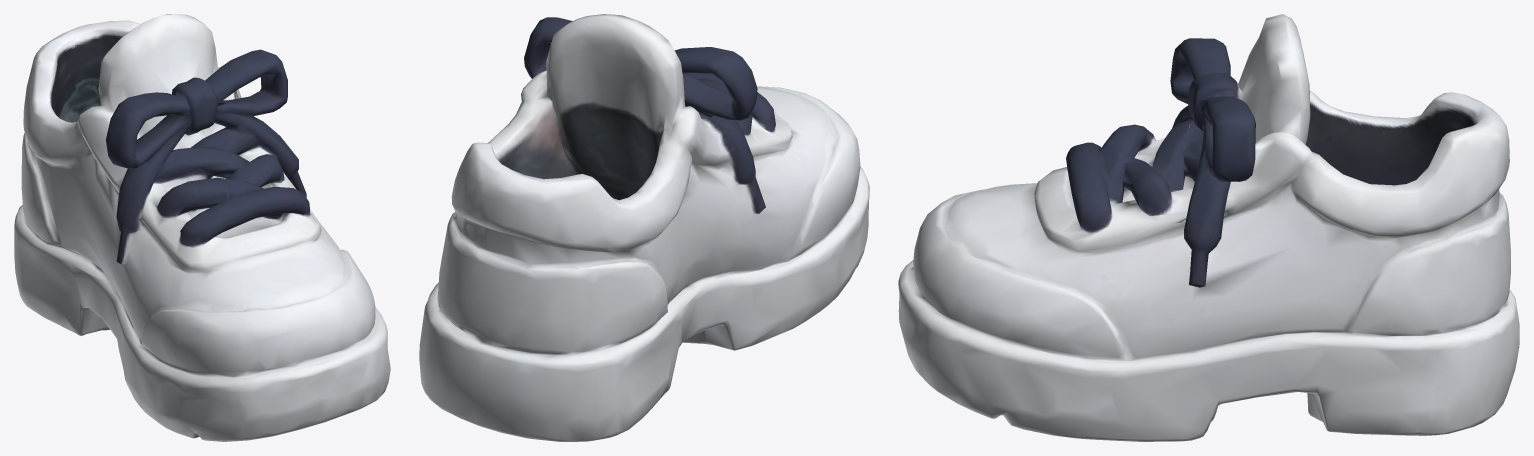
Rendered from shoe-starter.glb.
3 renders of one model, left to right at view 1: azimuth 30°, elevation 25°; view 2: azimuth 150°, elevation 25°; view 3: azimuth 270°, elevation 25°, orthographic. The views are drawn at different scales.
Parts seen in each view (by area): view 1: shoe-starter; view 2: shoe-starter; view 3: shoe-starter.
Part boxes in pixels (bbox=[...]): shoe-starter: bbox=[14, 14, 390, 441]; shoe-starter: bbox=[419, 14, 869, 441]; shoe-starter: bbox=[898, 14, 1519, 441].
Size of the model in its own units: 0.4884 by 0.65 by 1.
Materials: 1 (1 with a texture image).
